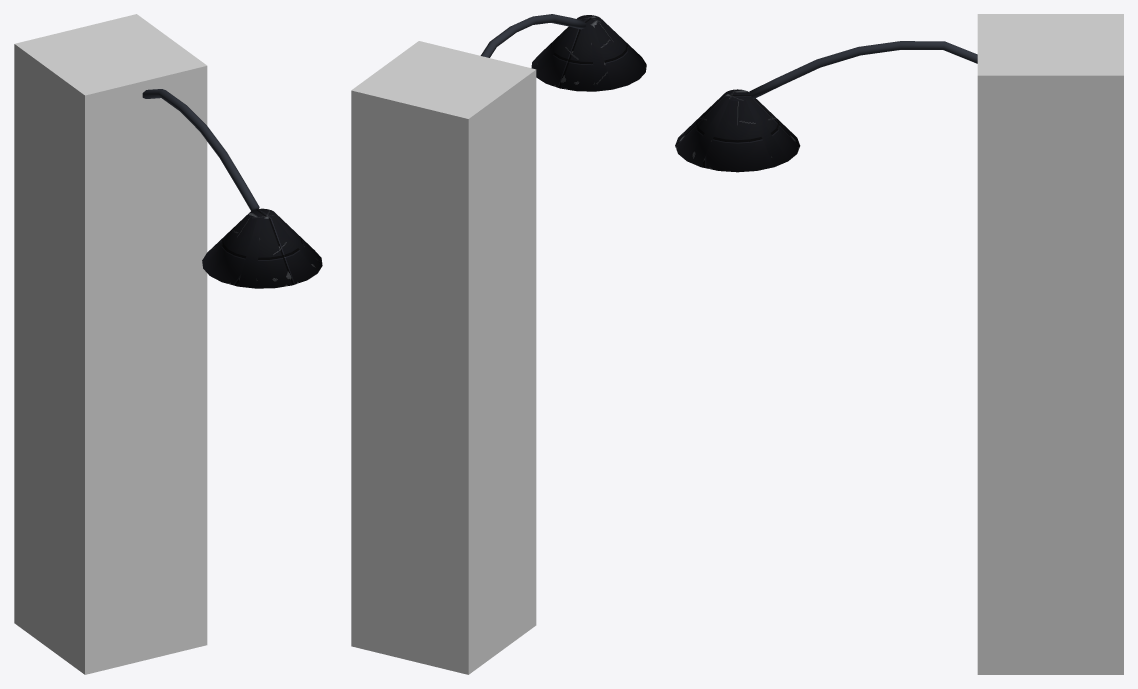
Rendered from Deco_FloorLamp.gltf.
The picture shows the model from 3 angles, left to right: view 1: azimuth 30°, elevation 25°; view 2: azimuth 150°, elevation 25°; view 3: azimuth 270°, elevation 25°; orthographic projection. The views are drawn at different scales.
Parts seen in each view (by area): view 1: Deco_FloorLamp_COL, Deco_FloorLamp; view 2: Deco_FloorLamp_COL, Deco_FloorLamp; view 3: Deco_FloorLamp_COL, Deco_FloorLamp.
Part boxes in pixels (box(x1,y1,x2,y2)): Deco_FloorLamp_COL: box(14, 14, 207, 674); Deco_FloorLamp: box(142, 89, 322, 288); Deco_FloorLamp_COL: box(351, 41, 536, 674); Deco_FloorLamp: box(480, 14, 646, 91); Deco_FloorLamp_COL: box(977, 14, 1123, 674); Deco_FloorLamp: box(675, 41, 977, 172).
Bounding box in the file's own units: 0.42 × 1.91 × 1.29.
Materials: 3 (1 with a texture image).
